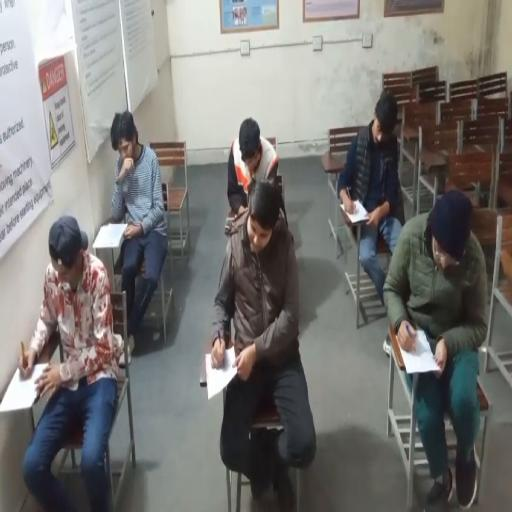paper: (0, 362, 48, 411), (397, 327, 442, 375), (205, 345, 238, 399), (94, 222, 128, 247), (341, 198, 370, 224)
